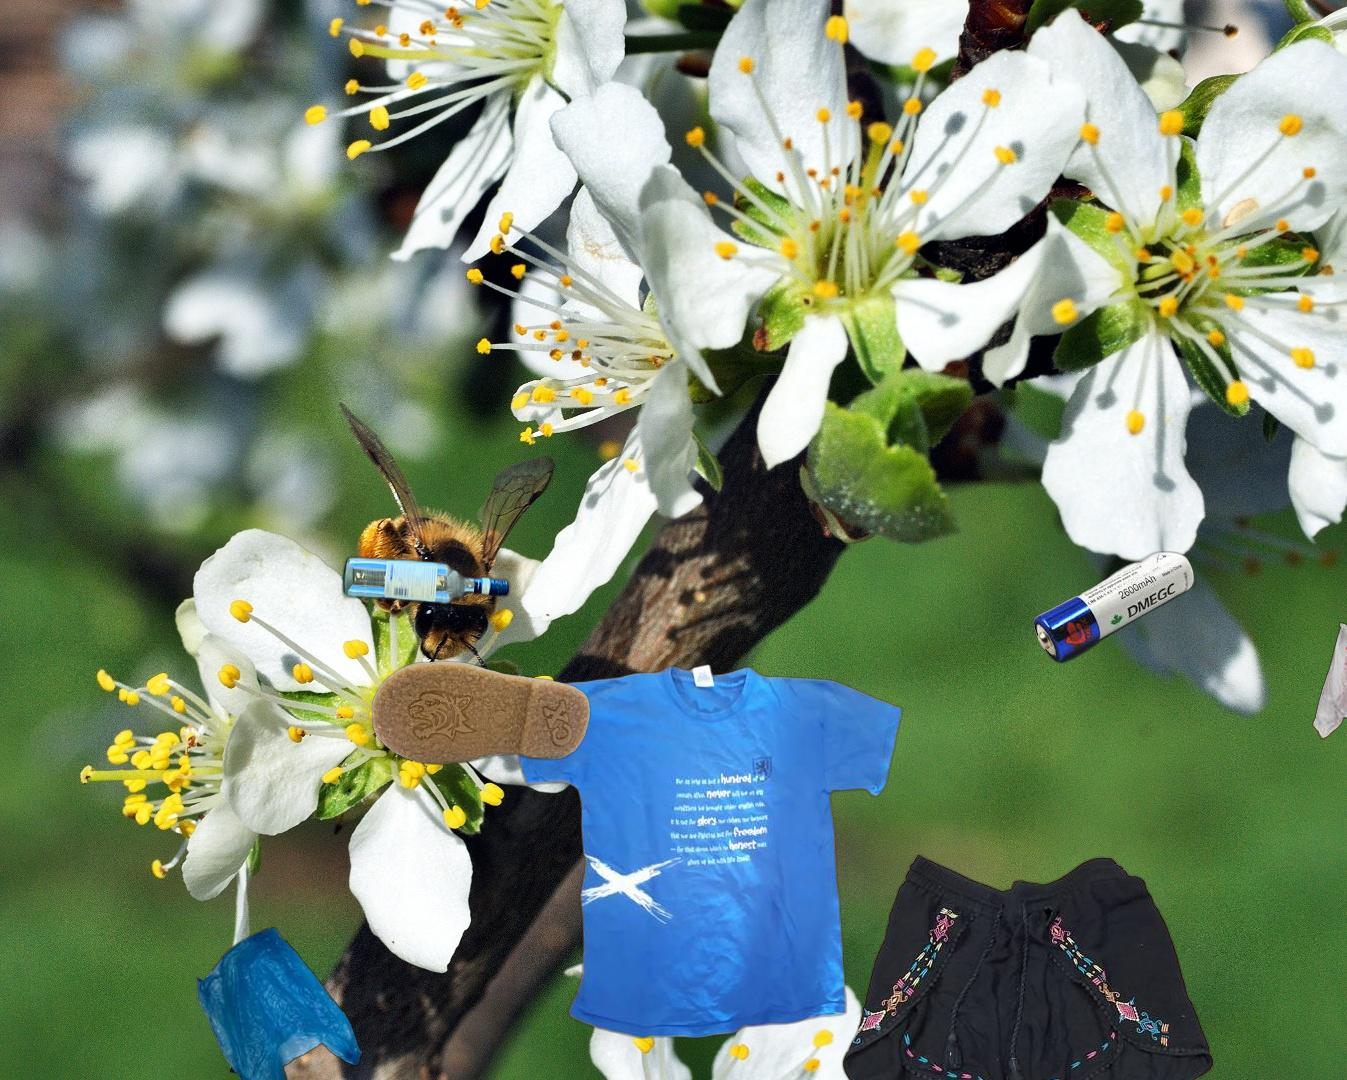battery: (1031, 549, 1197, 666)
clothes: (496, 662, 907, 1043), (839, 850, 1217, 1080)
glass: (337, 551, 514, 611)
plastic-bag: (193, 925, 366, 1080), (1310, 622, 1347, 779)
shoes: (369, 640, 597, 768)
trashbox-cardboard: (850, 948, 1194, 1080)
